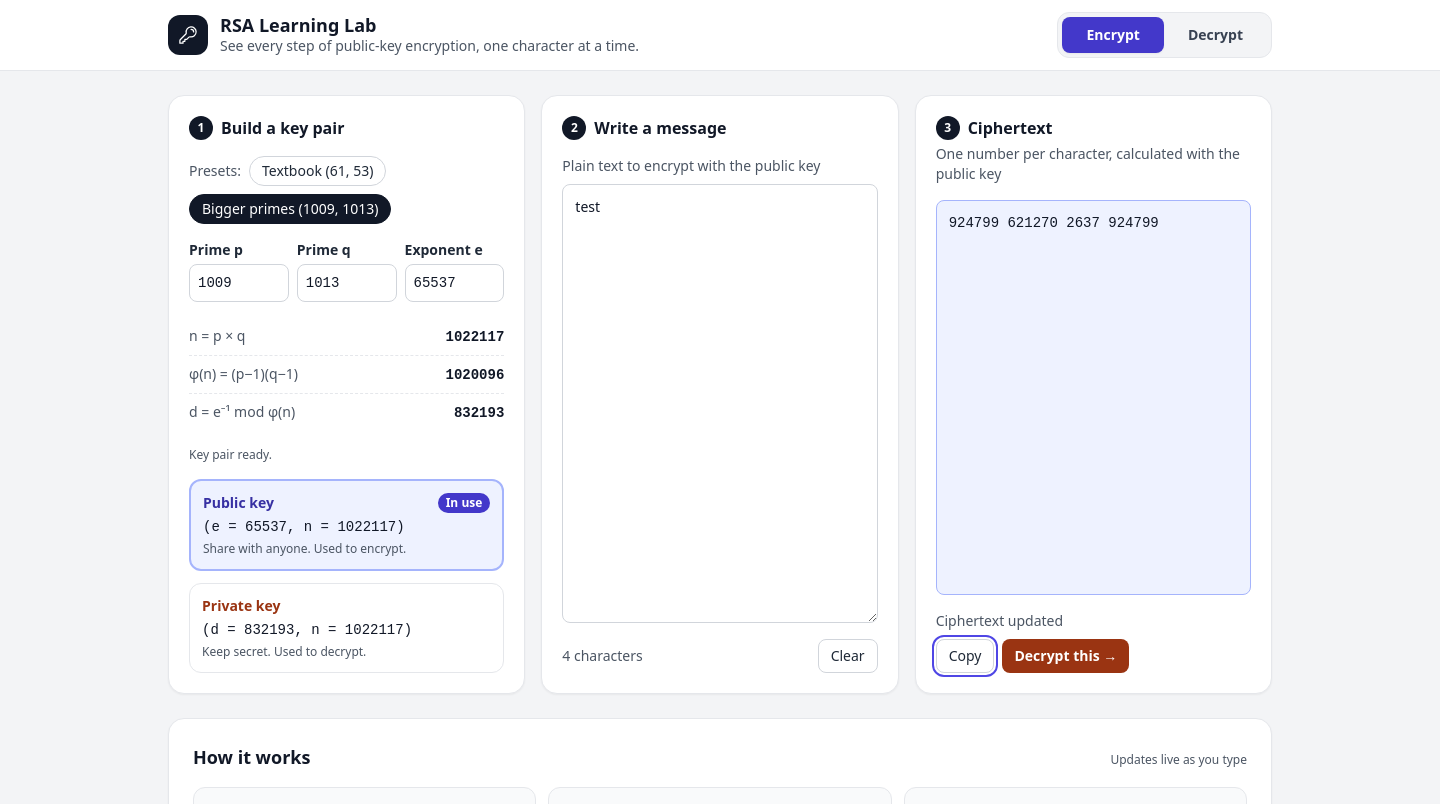
Test case: live encryption › copies only the ciphertext and announces success without moving focus
expect the text named "Ciphertext output" reads "924799 621270 2637 924799": met, box [949,215,1159,231]
Click the button "Copy" at (965, 656), box [936,639,994,673]
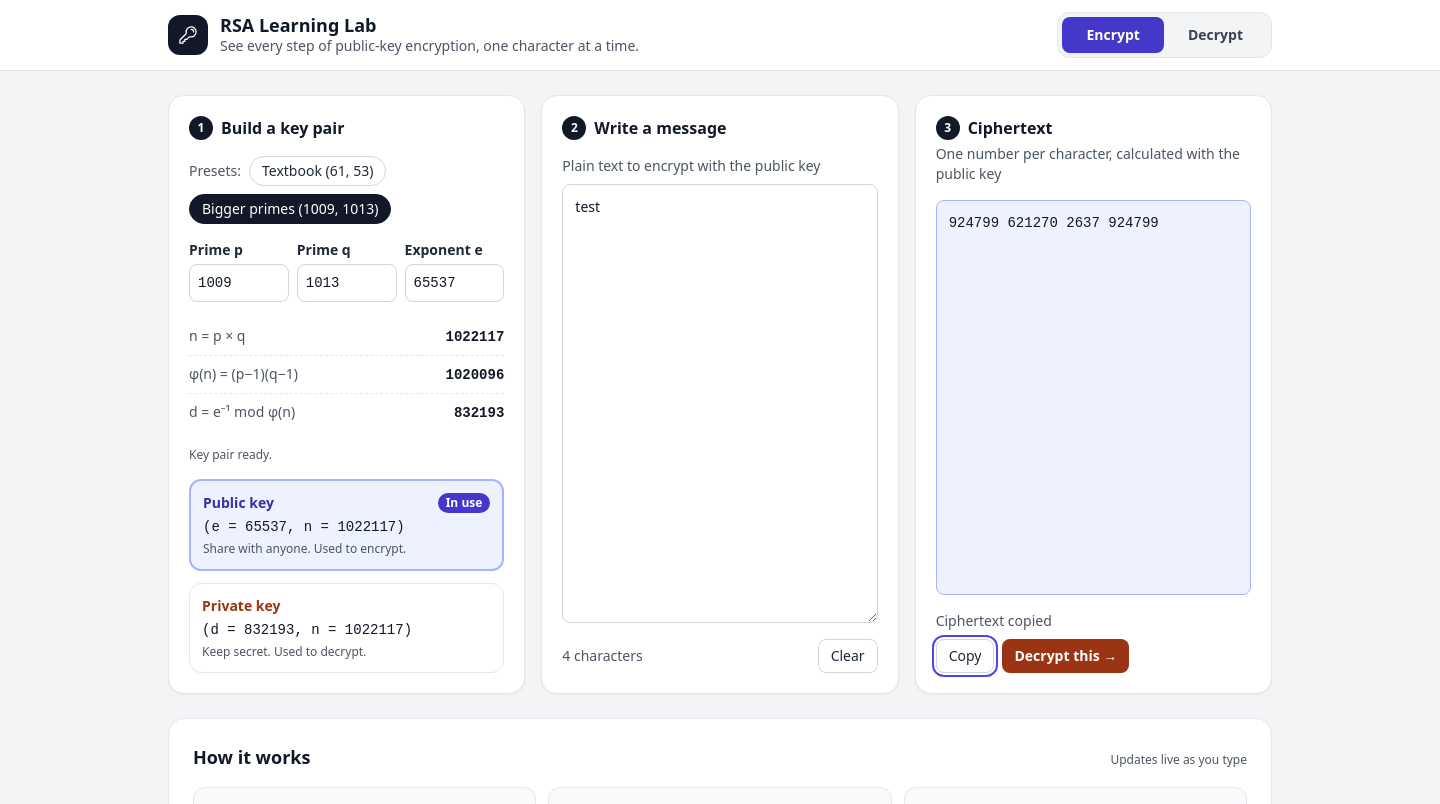
expect the text "Ciphertext copied" is shown: met, box [936,611,1052,631]
